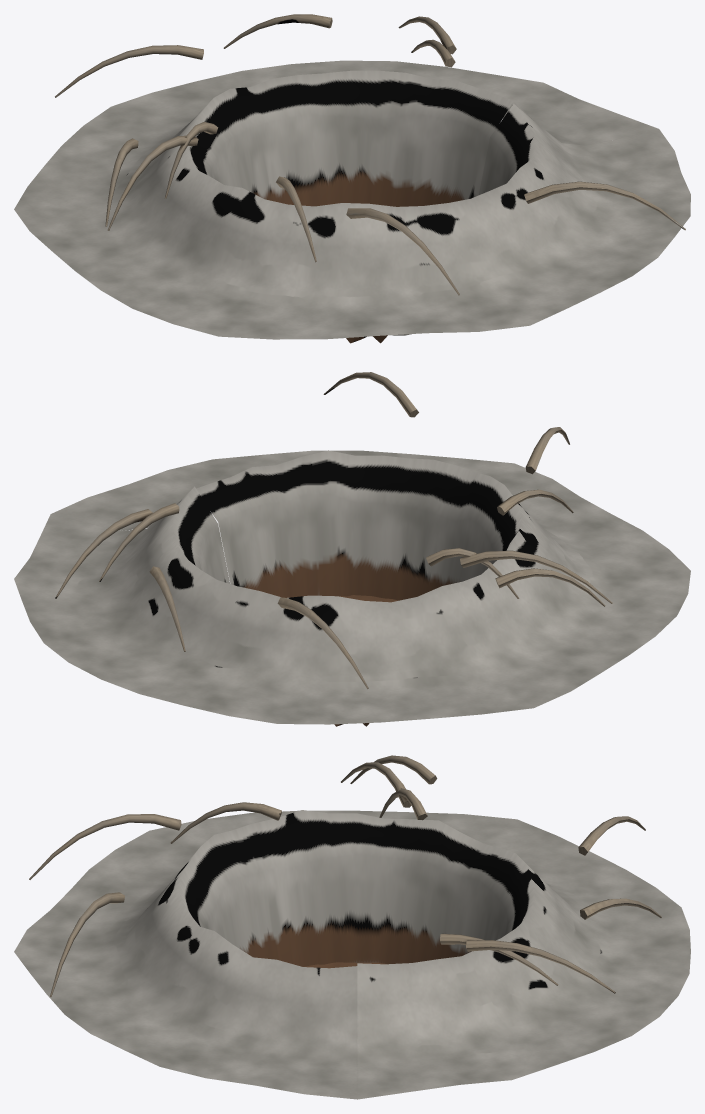
The model's file is SM_Camp_Burrow.fbx.
The picture shows the model from 3 angles, top to bottom: view 1: azimuth 30°, elevation 25°; view 2: azimuth 150°, elevation 25°; view 3: azimuth 270°, elevation 25°; orthographic projection. The views are drawn at different scales.
Parts seen in each view (by area): view 1: SM_Camp_Burrow; view 2: SM_Camp_Burrow; view 3: SM_Camp_Burrow.
Boxes of the visible parts, x1,y1,x2,y2 form: SM_Camp_Burrow: [14, 14, 690, 343]; SM_Camp_Burrow: [14, 372, 690, 726]; SM_Camp_Burrow: [14, 755, 690, 1099].
Size of the model in its own units: 303 by 300 by 109.
